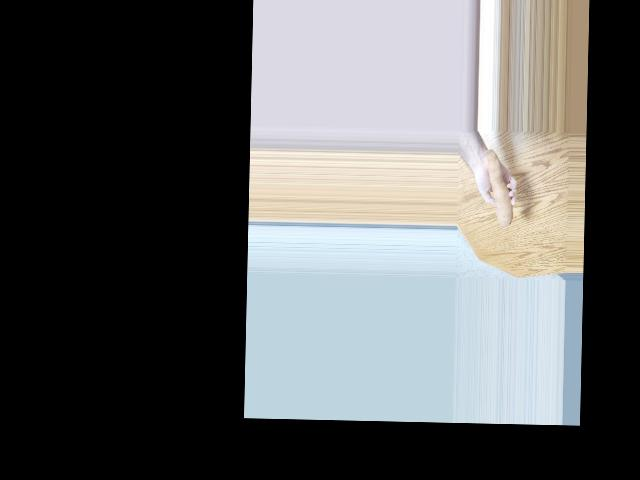sweet_potato: (486, 152, 515, 228)
